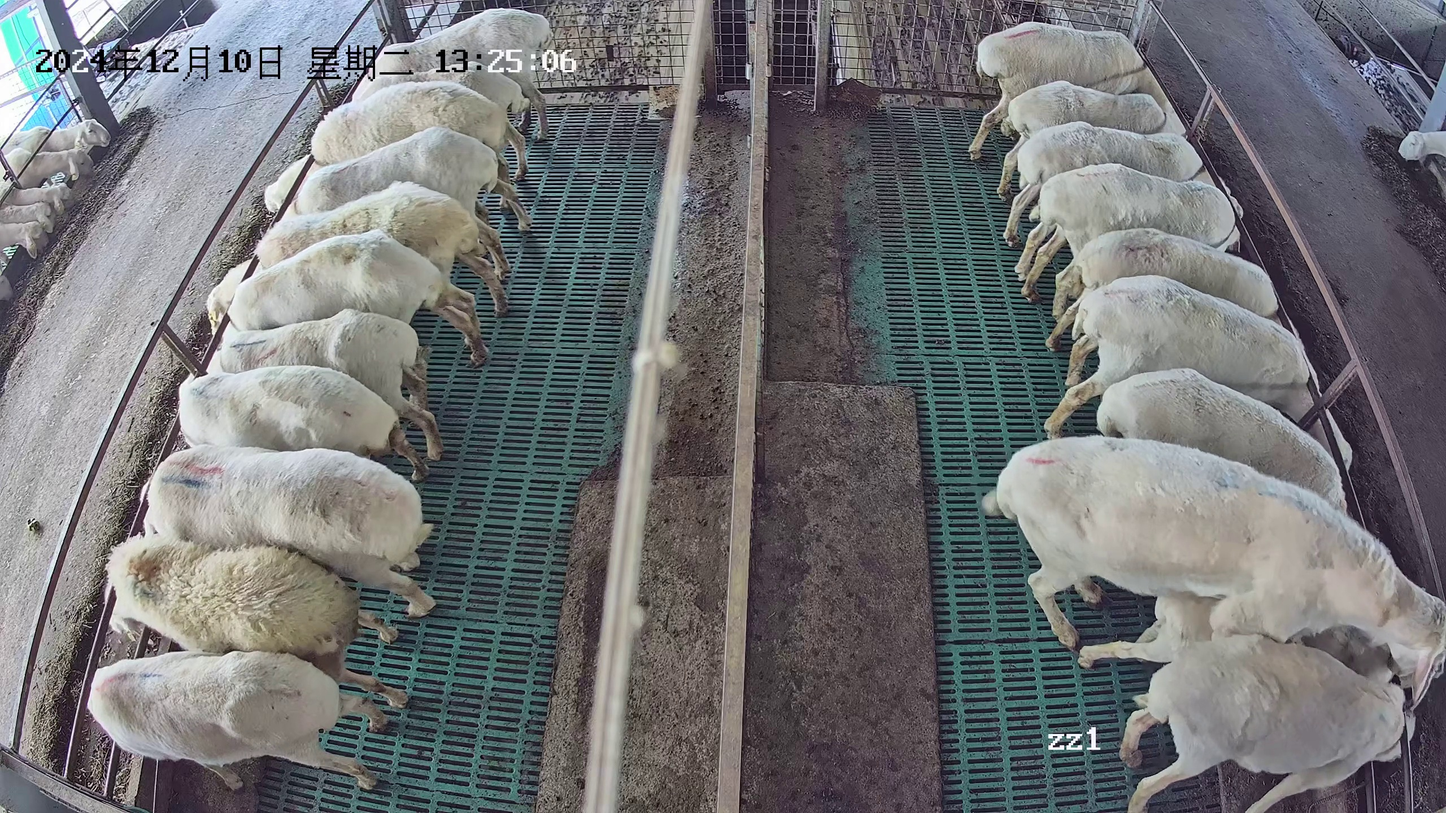Smounting: (980, 432, 1446, 710)
mounted: (1077, 592, 1398, 685)
